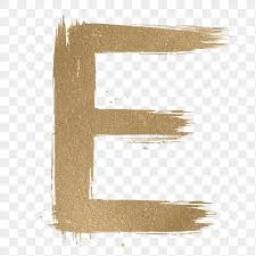e: (46, 16, 222, 234)
